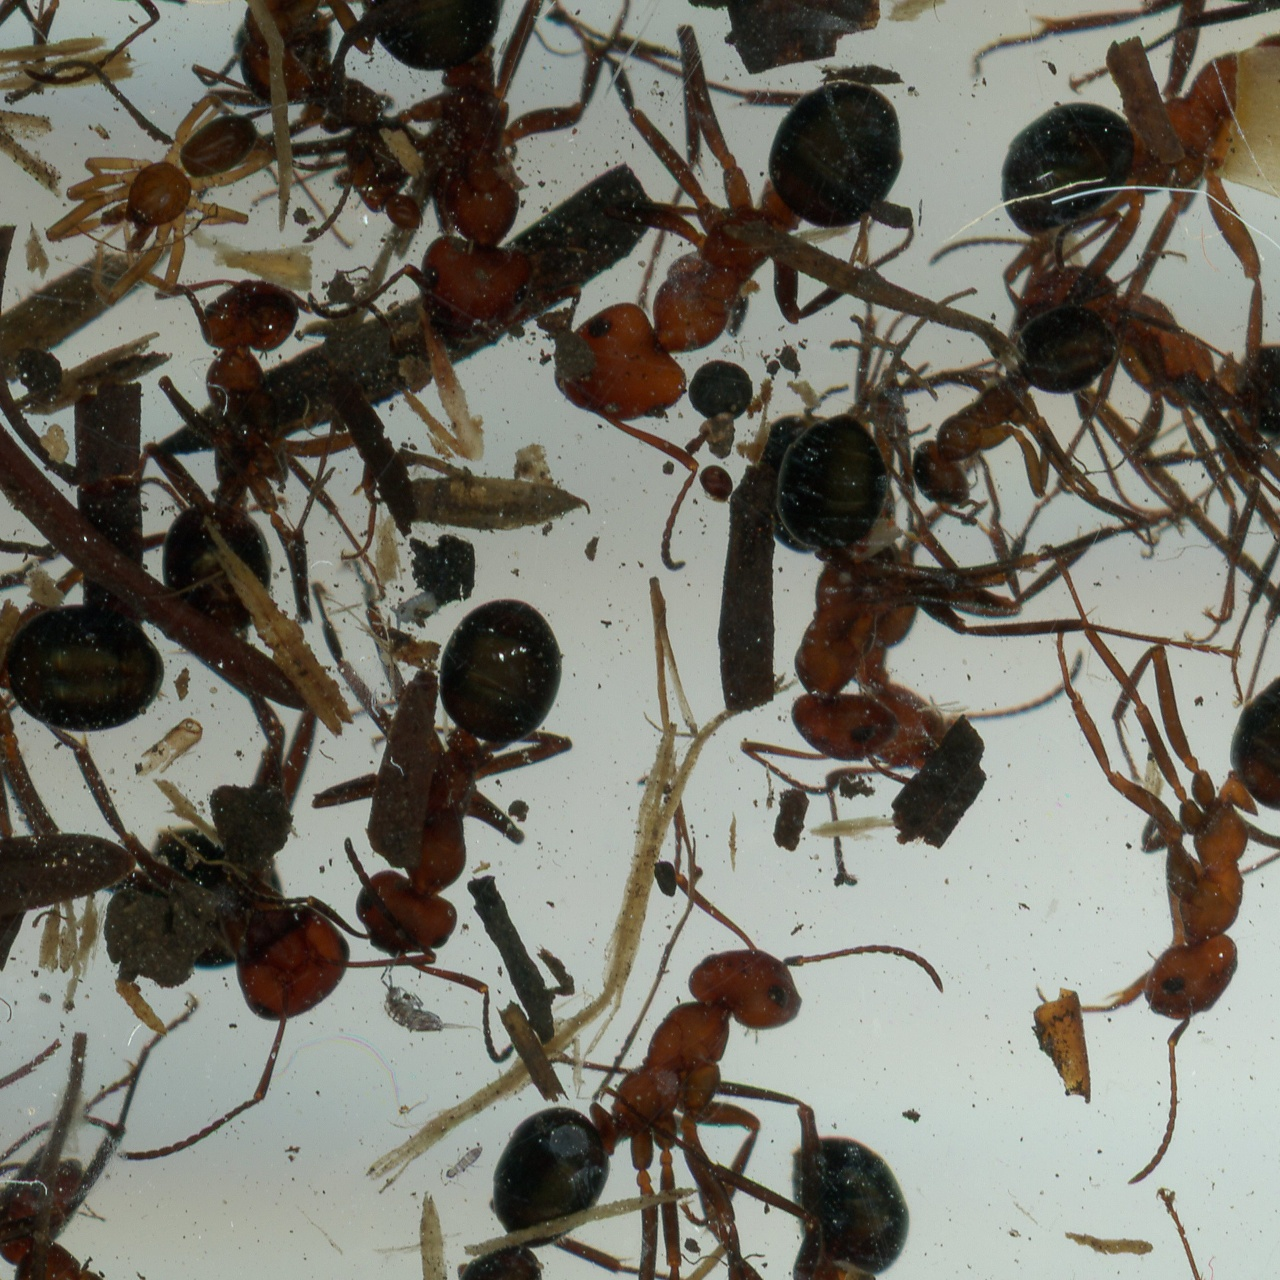arthropod: (57, 678, 509, 1162), (474, 844, 964, 1280), (519, 18, 969, 467), (1039, 544, 1280, 1199), (713, 404, 1032, 817), (988, 230, 1280, 673), (305, 600, 576, 1069), (932, 0, 1280, 355), (294, 0, 636, 350), (20, 47, 340, 361), (0, 498, 182, 930), (118, 279, 331, 622), (0, 1128, 407, 1280), (667, 1136, 917, 1280), (175, 0, 486, 114), (7, 0, 326, 90), (0, 0, 202, 95), (1078, 1193, 1280, 1280), (413, 1226, 649, 1280), (375, 958, 491, 1039), (388, 579, 445, 631), (433, 1141, 488, 1190), (697, 464, 738, 510)
